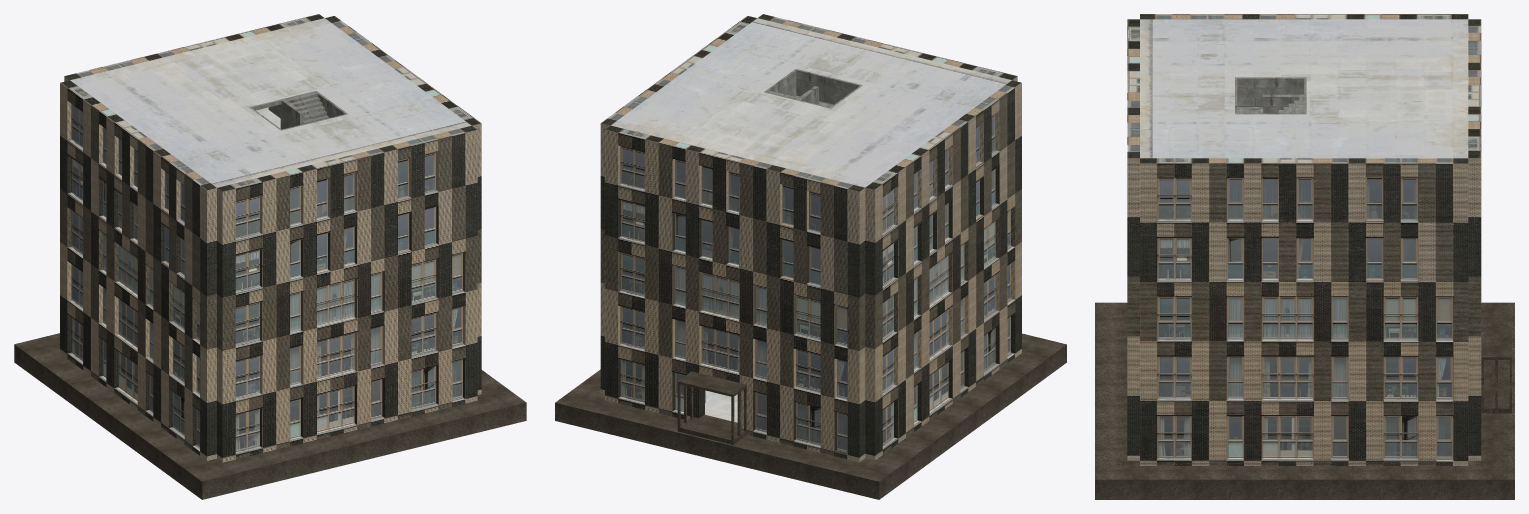
Rendered from BagSS04base_high.fbx.
The picture shows the model from 3 angles, left to right: view 1: azimuth 30°, elevation 25°; view 2: azimuth 150°, elevation 25°; view 3: azimuth 270°, elevation 25°; orthographic projection. The views are drawn at different scales.
Visible parts, largest first — view 1: baseMain700, baseFloors700, base_base700, baseStairwell700; view 2: baseMain700, baseFloors700, base_base700, baseStairwell700; view 3: baseMain700, baseFloors700, base_base700, baseStairwell700.
Boxes of the visible parts, box(x1,y1,x2,y2) form: baseMain700: box(60, 14, 481, 462); baseFloors700: box(70, 18, 471, 187); base_base700: box(14, 333, 526, 499); baseStairwell700: box(249, 91, 347, 130); baseMain700: box(600, 14, 1021, 462); baseFloors700: box(611, 18, 1011, 422); base_base700: box(555, 333, 1066, 499); baseStairwell700: box(705, 69, 862, 402); baseMain700: box(1127, 14, 1481, 465); baseFloors700: box(1140, 19, 1468, 158); base_base700: box(1095, 302, 1514, 499); baseStairwell700: box(1235, 77, 1306, 114).
Size of the model in its own units: 26.1 by 22.21 by 26.17.
